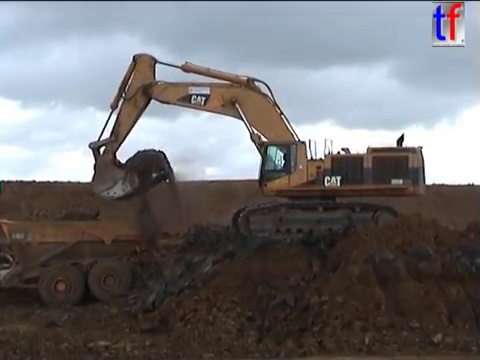excavator: (86, 50, 429, 245)
truck: (1, 214, 157, 308)
